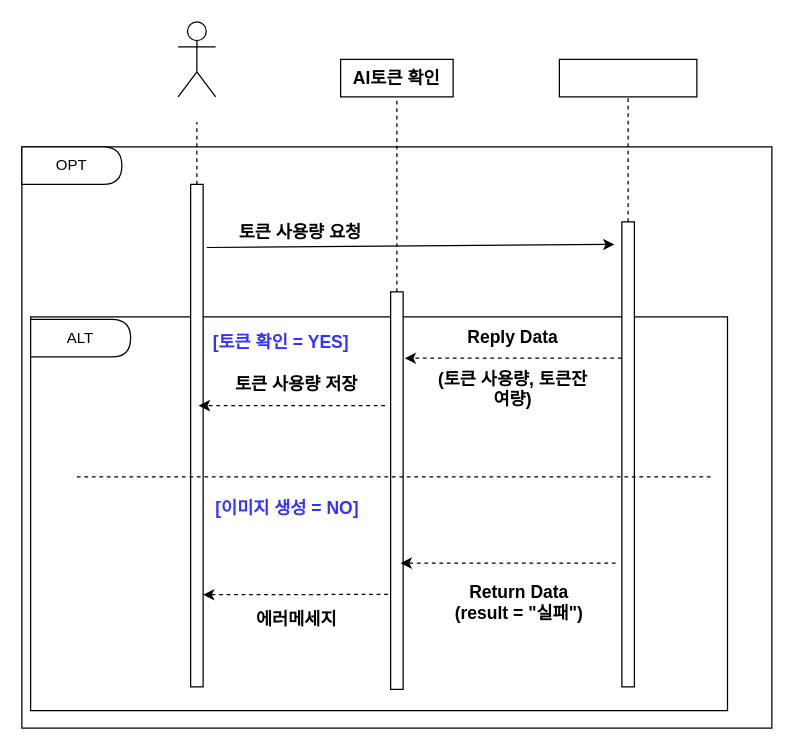
Some shapes in this 794 by 750 pixel diagram are drawn without their labels. Here are the shapes that lost their labels. From the top down, the centre of each, then its label:
At [196,59]: "Server".
At [627,77]: "AI모델".
